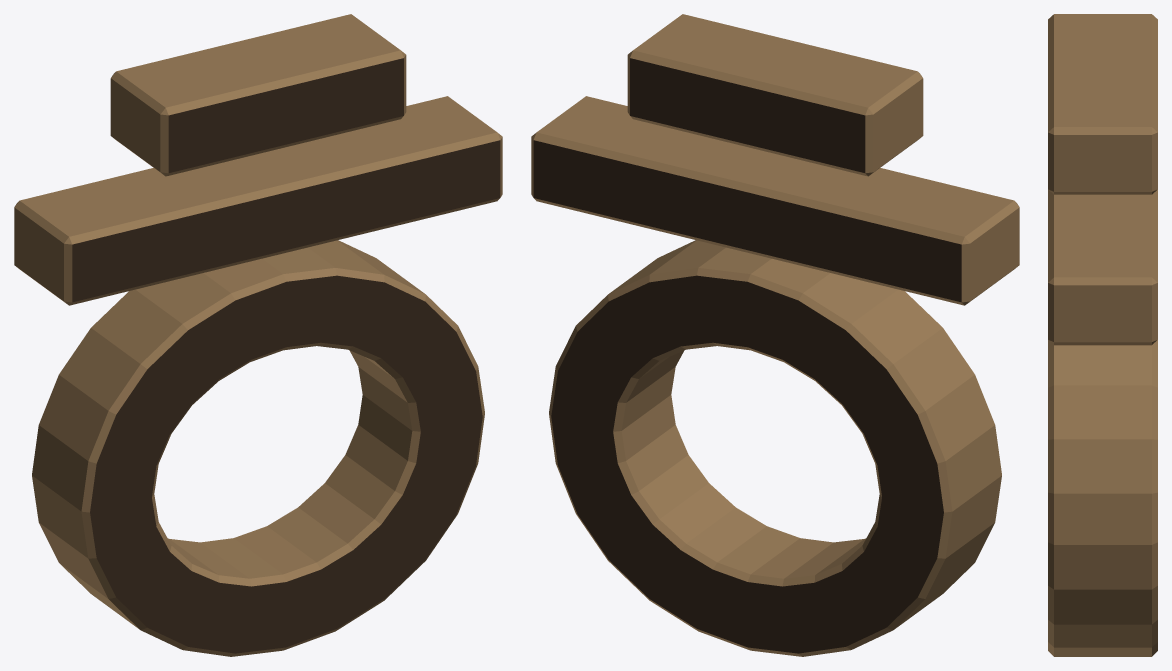
The model's file is hieut.glb.
3 renders of one model, left to right at view 1: azimuth 30°, elevation 25°; view 2: azimuth 150°, elevation 25°; view 3: azimuth 270°, elevation 25°, orthographic.
Visible parts, largest first — view 1: Glyph; view 2: Glyph; view 3: Glyph.
Boxes of the visible parts, x1=… form: Glyph: x1=14, y1=14, x2=502, y2=656; Glyph: x1=531, y1=14, x2=1019, y2=656; Glyph: x1=1048, y1=14, x2=1157, y2=656.
Bounding box in the file's own units: 0.5 × 0.6225 × 0.11.
